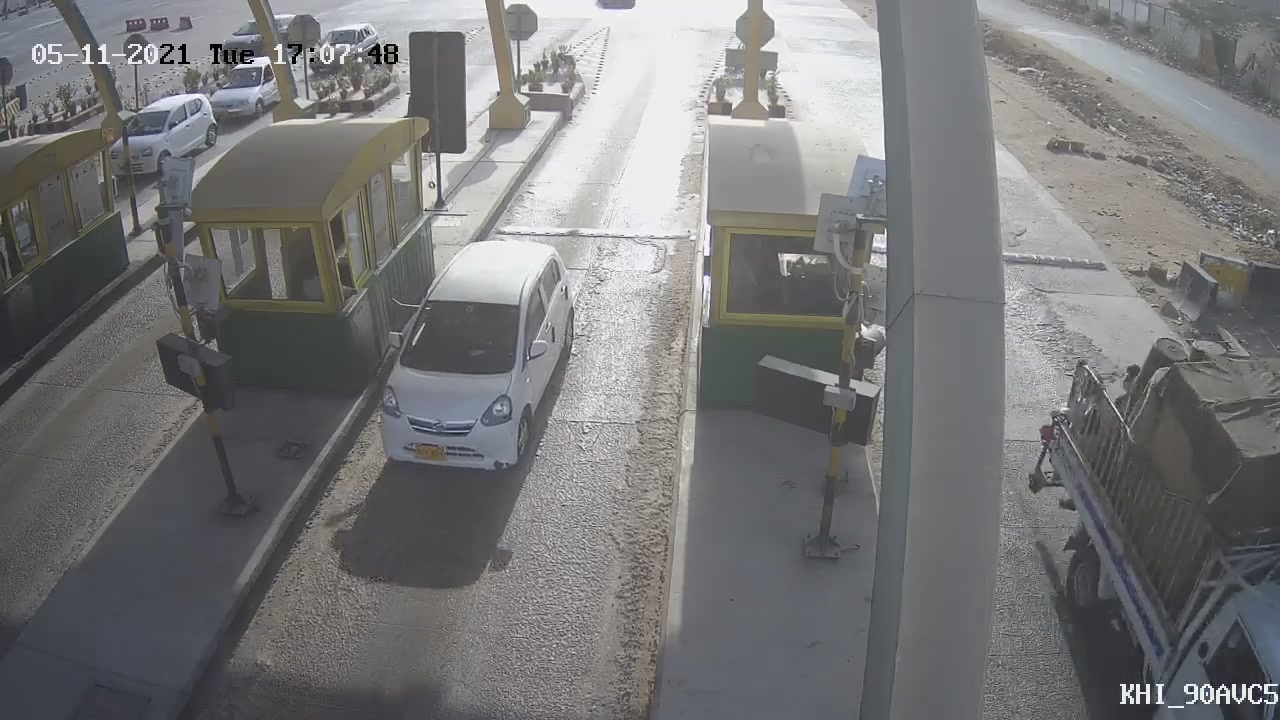F1: (355, 216, 599, 491)
